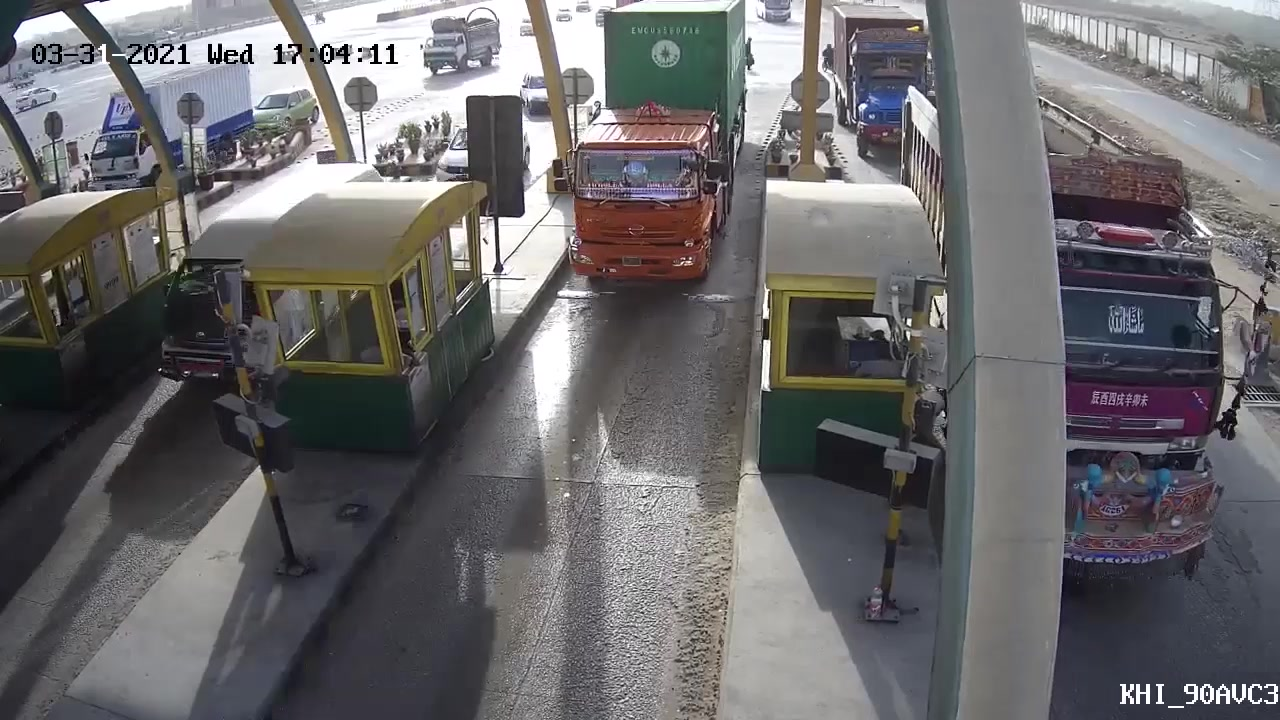F6: (555, 1, 757, 310)
